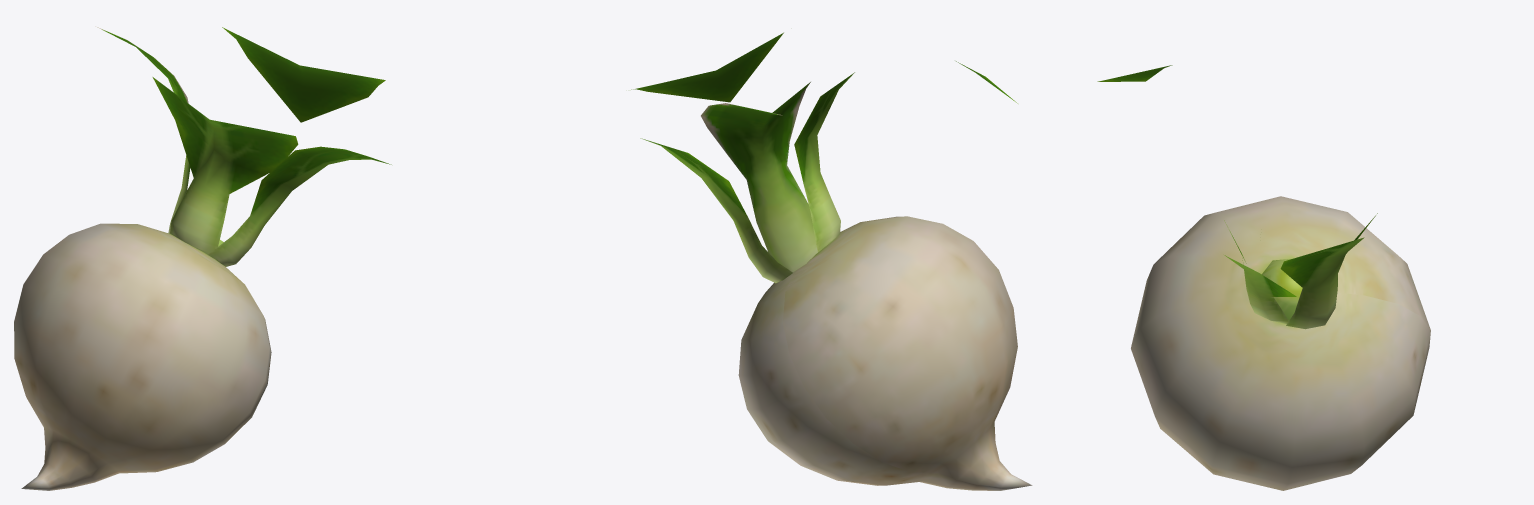
The model's file is UnitIconPltKabu.glb.
3 views of the same model, side by side, from view 1: azimuth 30°, elevation 25°; view 2: azimuth 150°, elevation 25°; view 3: azimuth 270°, elevation 25° (orthographic). The views are drawn at different scales.
Visible parts, largest first — view 1: pCube16__mUnitIconPltKabu02; view 2: pCube16__mUnitIconPltKabu02; view 3: pCube16__mUnitIconPltKabu02.
Boxes of the visible parts, x1,y1,x2,y2 form: pCube16__mUnitIconPltKabu02: (14,26,391,490); pCube16__mUnitIconPltKabu02: (631,32,1032,490); pCube16__mUnitIconPltKabu02: (1097,65,1430,490).
Bounding box in the file's own units: 5.67 × 5.09 × 4.84.
Materials: 1 (1 with a texture image).
